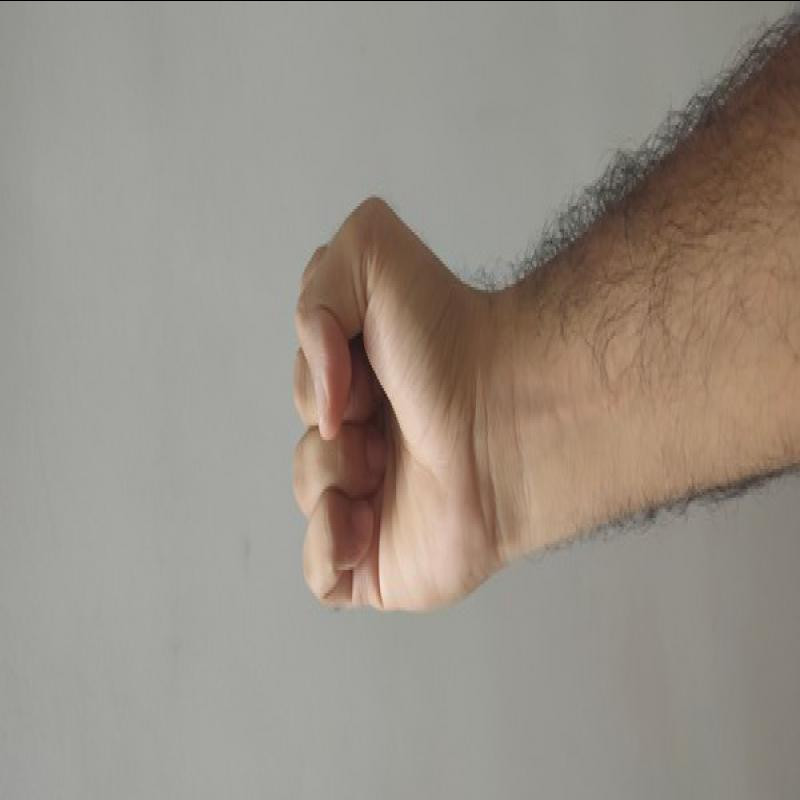Mushti: (264, 191, 515, 632)
